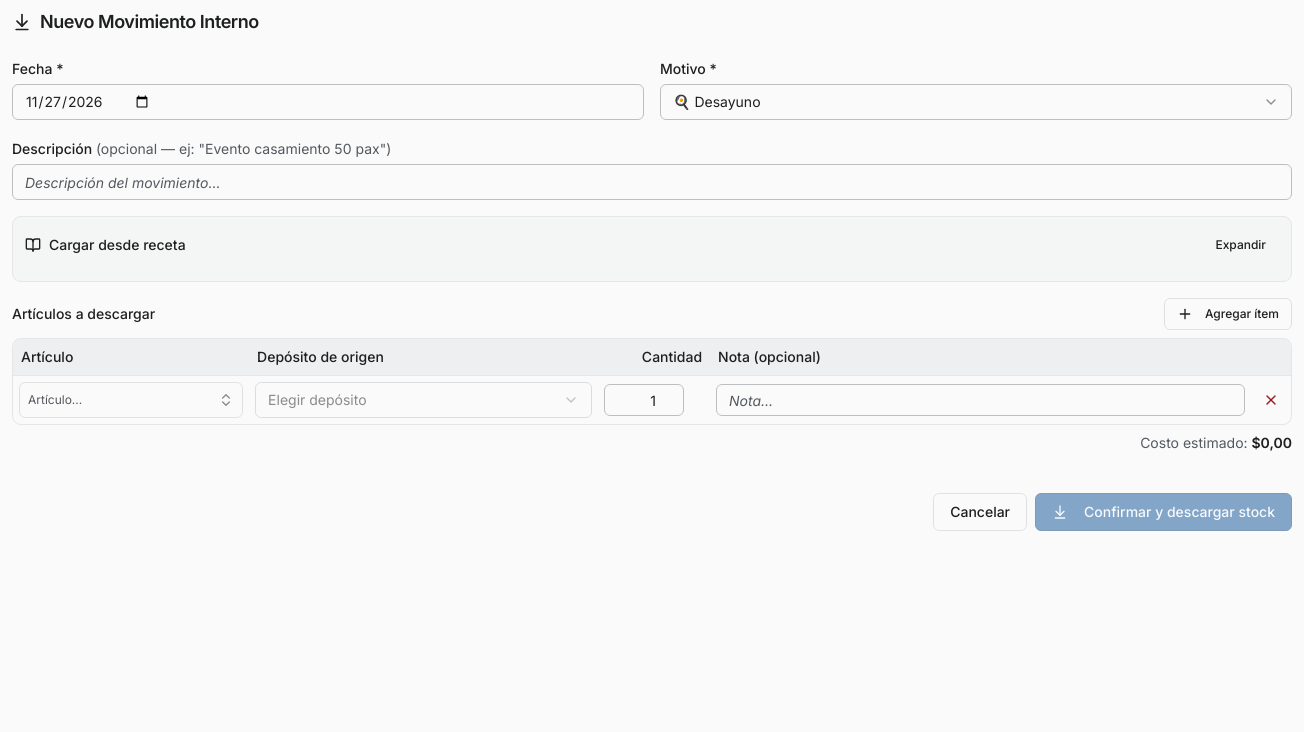
Test: InternalMovementForm › el motivo por defecto es Desayuno y ofrece los cuatro motivos existentes
Click the dropdown with test id "select-im-motivo" at (717, 102), box x1=660 y1=84 x2=1292 y2=120
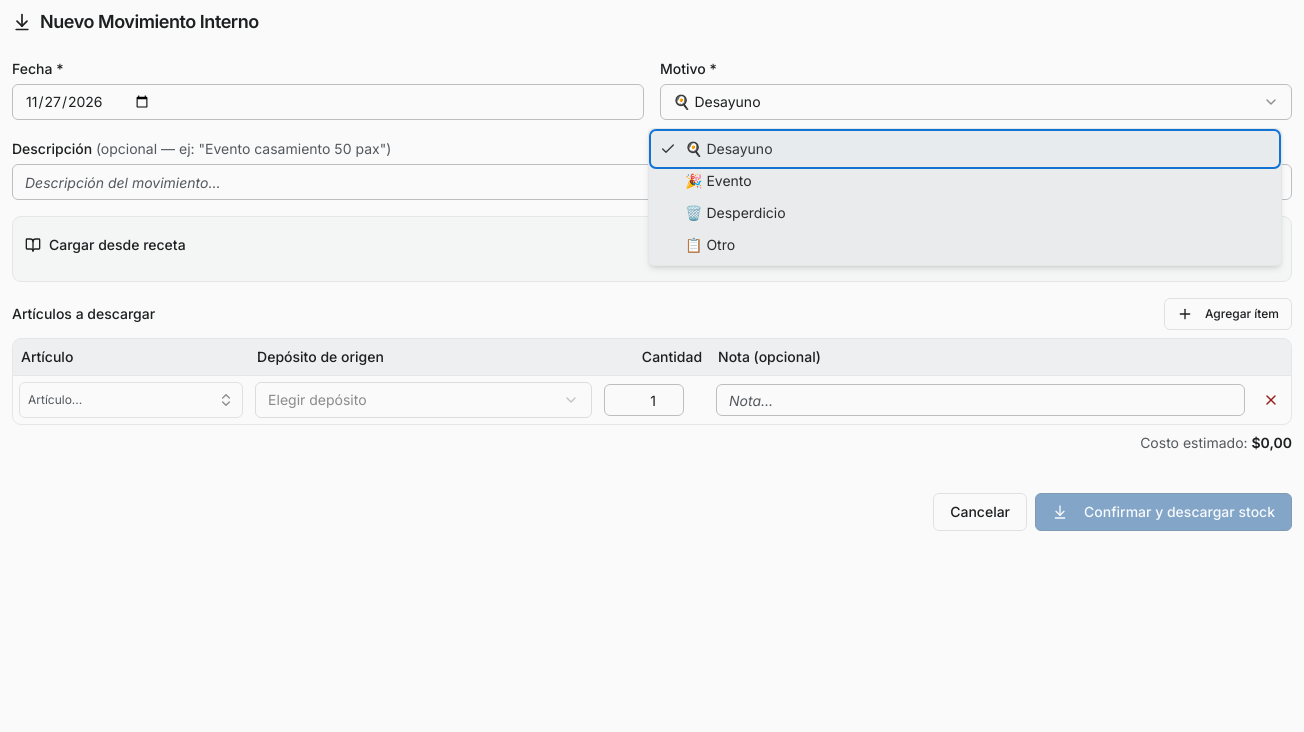
Check: the option "🍳 Desayuno" is shown, box x1=653 y1=133 x2=1277 y2=165
Check: the option "🎉 Evento" is shown, box x1=685 y1=172 x2=752 y2=189
Check: the option "🗑️ Desperdicio" is shown, box x1=685 y1=204 x2=786 y2=221
